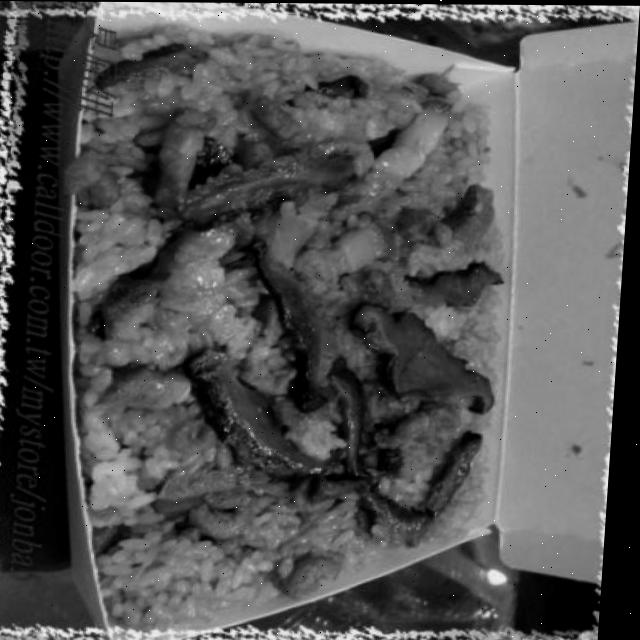米饭主食: (35, 18, 537, 626)
